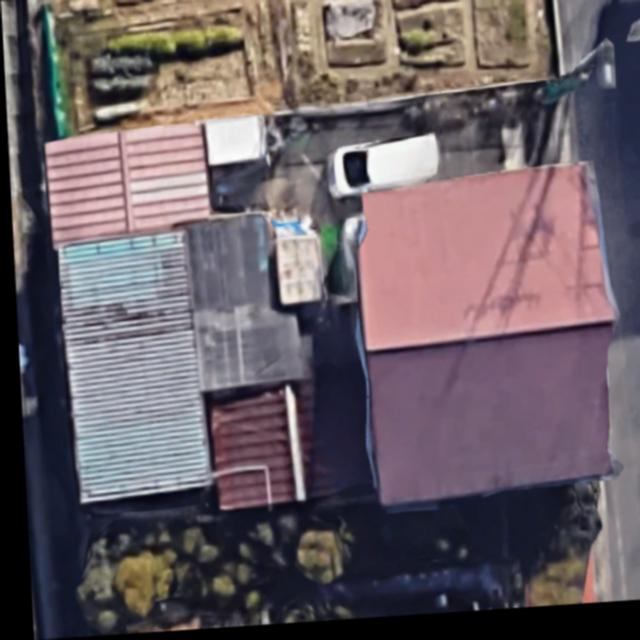Batiment: (355, 171, 609, 509), (55, 234, 205, 503), (203, 357, 365, 511), (43, 126, 207, 247), (273, 240, 318, 307)
